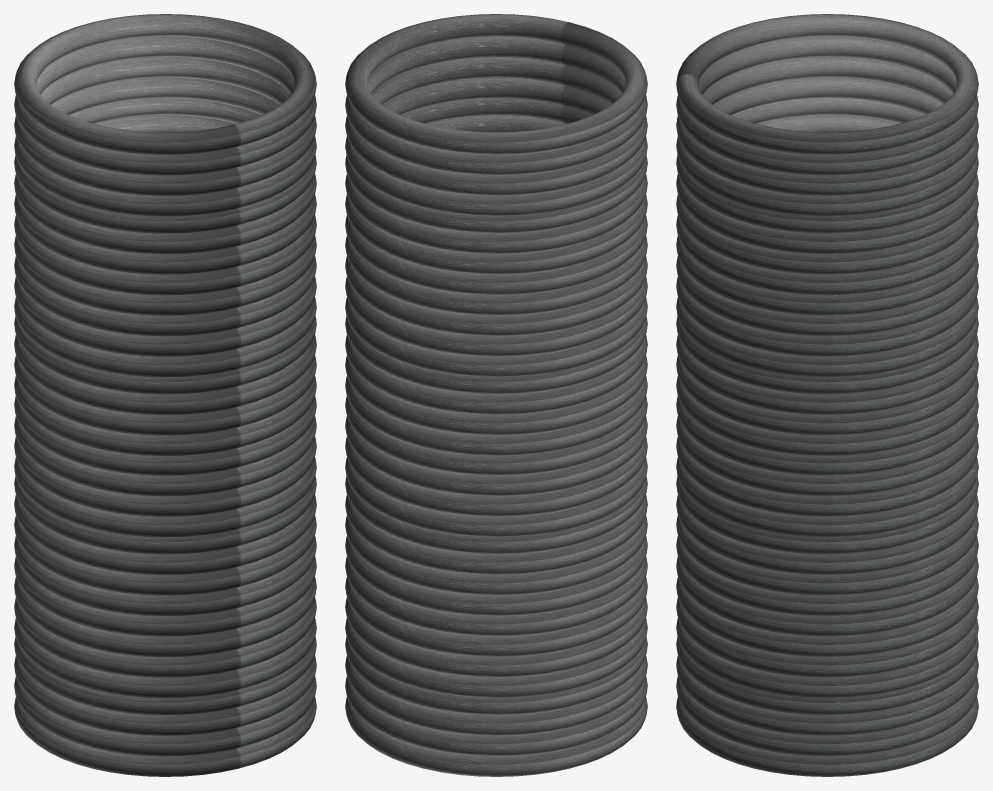
File: pieza18.fbx
The picture shows the model from 3 angles, left to right: view 1: azimuth 30°, elevation 25°; view 2: azimuth 150°, elevation 25°; view 3: azimuth 270°, elevation 25°; orthographic projection.
Visible parts, largest first — view 1: BezierCircle.062; view 2: BezierCircle.062; view 3: BezierCircle.062.
Part boxes in pixels (x1,y1,x2,y2): BezierCircle.062: (14, 14, 316, 776); BezierCircle.062: (345, 14, 647, 776); BezierCircle.062: (676, 14, 978, 776).
Bounding box in the file's own units: 120 × 281 × 120.
32 materials, 32 textured.
